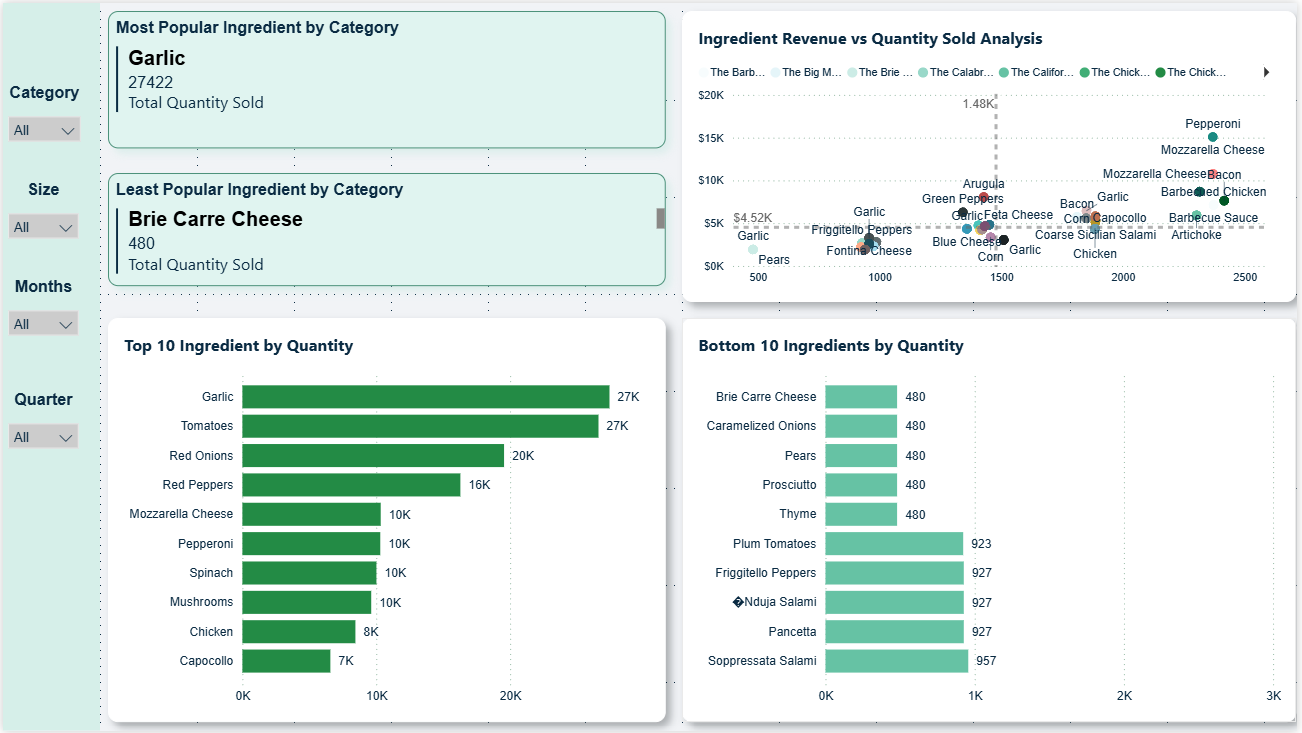

Layout of this report page (visuals, bound fields, positions):
{"tool":"powerbi","page":{"name":"Ingredient Analysis","canvas":[1280,720],"ordinal":3},"visuals":[{"type":"shape","box":[0,0,96,720],"z":0,"group":"g1"},{"type":"multiRowCard","title":"Most Popular Ingredient by Category","fields":{"Values":["Pizza_SaleVolume.IngredientQty","Pizza_SaleVolume.Ingredients_Name"]},"box":[104,8,552,136],"z":0},{"type":"slicer","title":"Category","fields":{"Values":["DimPizza.category"]},"box":[0,80,82.3,64],"z":1000,"group":"g1"},{"type":"multiRowCard","title":"Least Popular Ingredient by Category","fields":{"Values":["Pizza_SaleVolume.IngredientQty","Pizza_SaleVolume.Ingredients_Name"]},"box":[104,168,552,112],"z":1000},{"type":"slicer","title":"Months","fields":{"Values":["Dim_Date.Month Name"]},"box":[0,272,80,80],"z":2000,"group":"g1"},{"type":"clusteredBarChart","title":"Top 10 Ingredient by Quantity","fields":{"Y":["Pizza_SaleVolume.IngredientQty"],"Category":["Pizza_SaleVolume.Ingredients_Name"]},"box":[104,312,552,400],"z":2000},{"type":"clusteredBarChart","title":"Bottom 10 Ingredients by Quantity","fields":{"Y":["Pizza_SaleVolume.IngredientQty"],"Category":["Pizza_SaleVolume.Ingredients_Name"]},"box":[672,312,608,400],"z":3000},{"type":"slicer","title":"Quarter","fields":{"Values":["Dim_Date.Quater"]},"box":[0,384,80,128],"z":3000,"group":"g1"},{"type":"scatterChart","title":"Ingredient Revenue vs Quantity Sold Analysis","fields":{"X":["Pizza_SaleVolume.IngredientQty"],"Y":["Pizza_SaleVolume.IngredientRevenue"],"Category":["Pizza_SaleVolume.Ingredients_Name"],"Series":["Pizza_SaleVolume.name"]},"box":[672,8,608,288],"z":4000},{"type":"slicer","title":"Size","fields":{"Values":["Pizza_Sales.size","DimPizza.size"]},"box":[0,176,80,64],"z":4000,"group":"g1"},{"type":"group","id":"g1","title":"Group 1","box":[0,0,96,720],"z":5000}]}

Visuals, with their boxes in screenshot pixels (x1, y1, x2, y2), scaled from the page's 1280x720 canvas onto the 1302x733 screenshot:
shape: box(0, 0, 98, 732)
"Most Popular Ingredient by Category" multiRowCard: box(106, 8, 667, 147)
"Category" slicer: box(0, 81, 84, 147)
"Least Popular Ingredient by Category" multiRowCard: box(106, 171, 667, 285)
"Months" slicer: box(0, 277, 81, 358)
"Top 10 Ingredient by Quantity" clusteredBarChart: box(106, 318, 667, 725)
"Bottom 10 Ingredients by Quantity" clusteredBarChart: box(684, 318, 1301, 725)
"Quarter" slicer: box(0, 391, 81, 521)
"Ingredient Revenue vs Quantity Sold Analysis" scatterChart: box(684, 8, 1301, 301)
"Size" slicer: box(0, 179, 81, 244)
"Group 1" group: box(0, 0, 98, 732)
